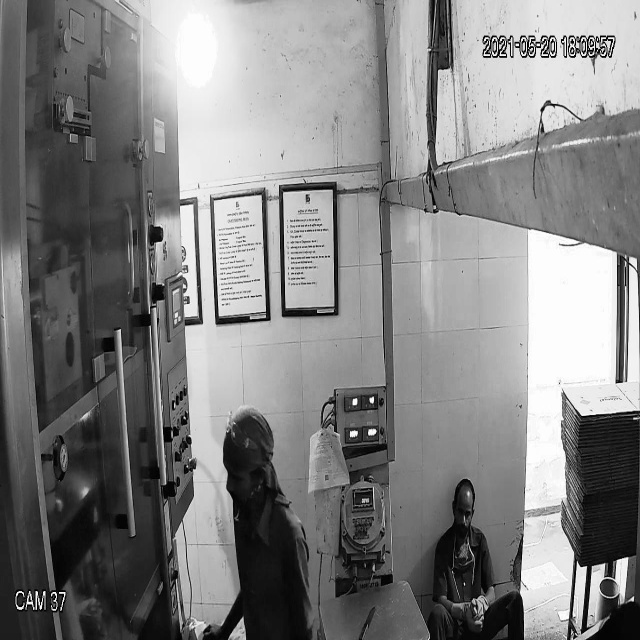Sin_gafas: (220, 456, 261, 498), (450, 500, 475, 526)
